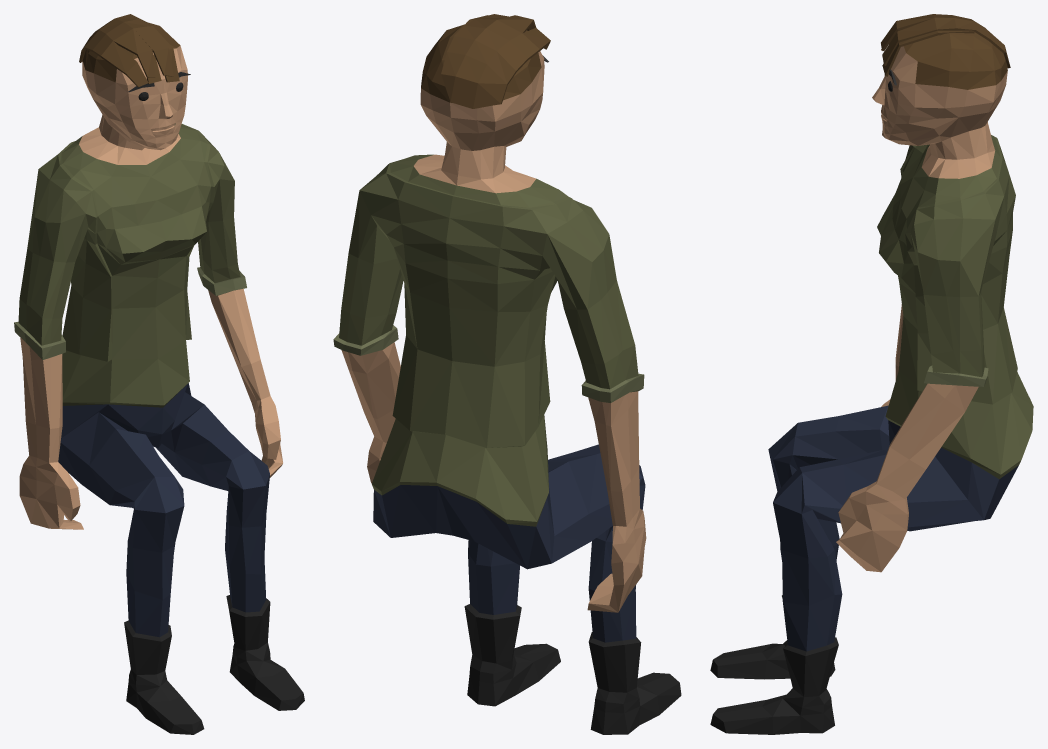
Rendered from cg_woman_0.glb.
3 renders of one model, left to right at view 1: azimuth 30°, elevation 25°; view 2: azimuth 150°, elevation 25°; view 3: azimuth 270°, elevation 25°, orthographic. The views are drawn at different scales.
Size of the model in its own units: 1.49 by 3.82 by 1.65.
